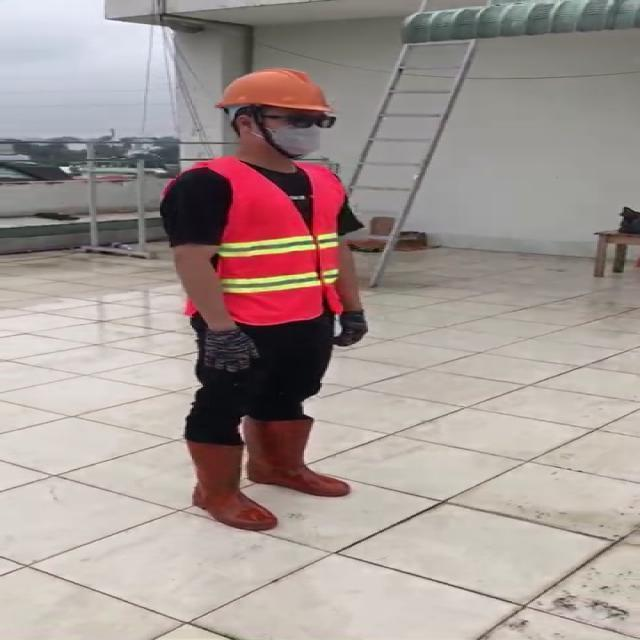gloves: (191, 325, 261, 389), (322, 305, 371, 356)
goggles: (249, 109, 337, 132)
helmet: (212, 64, 338, 119)
safety_vest: (181, 160, 352, 321)
